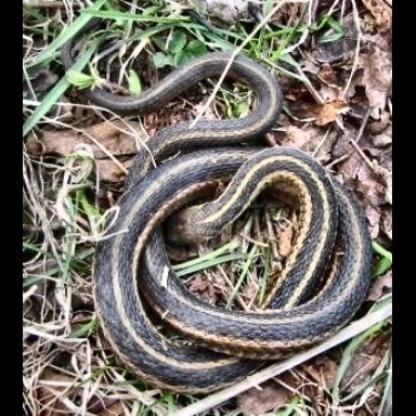Snake: (59, 19, 373, 388)
